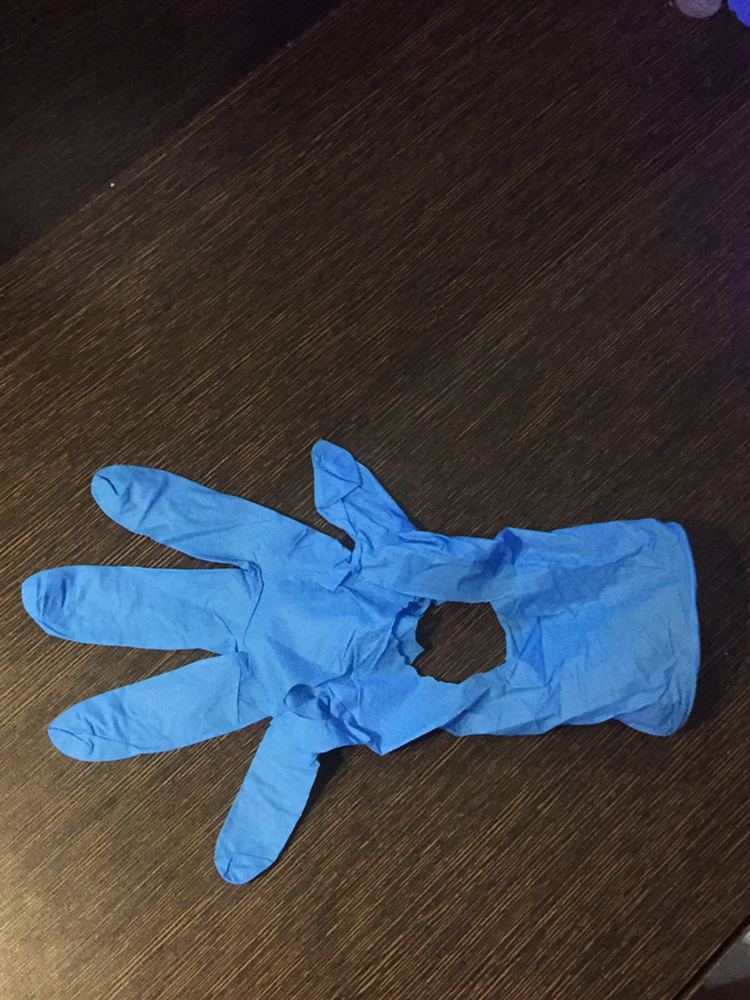defected: (36, 433, 750, 855)
